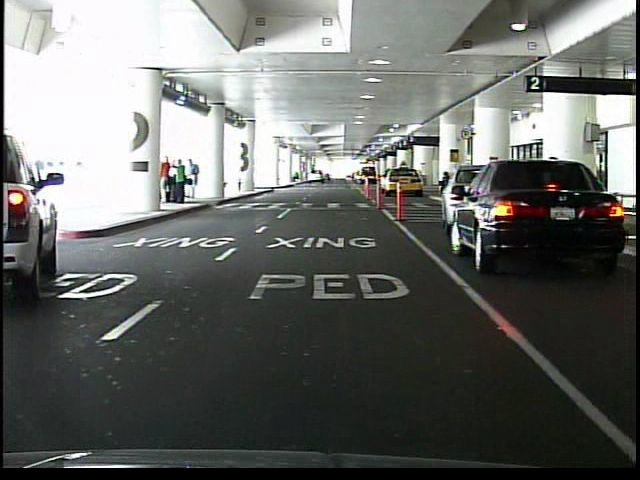person: (174, 160, 188, 205), (162, 154, 174, 205), (187, 159, 200, 201)
